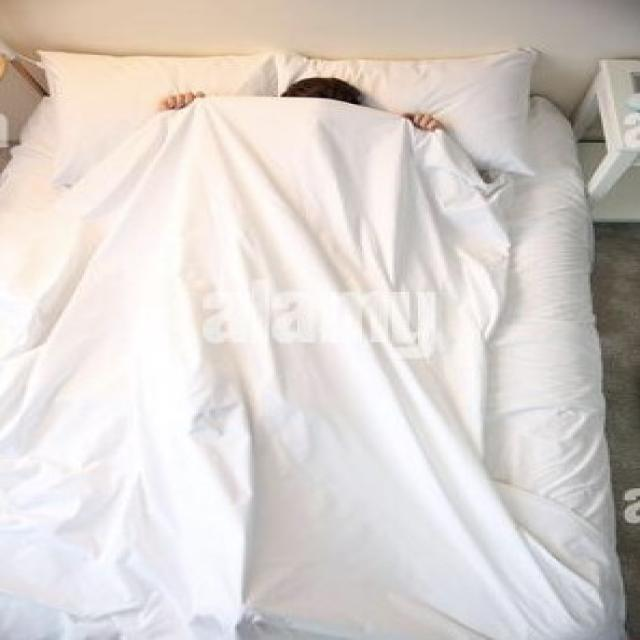sleeping-person: (121, 53, 524, 640)
